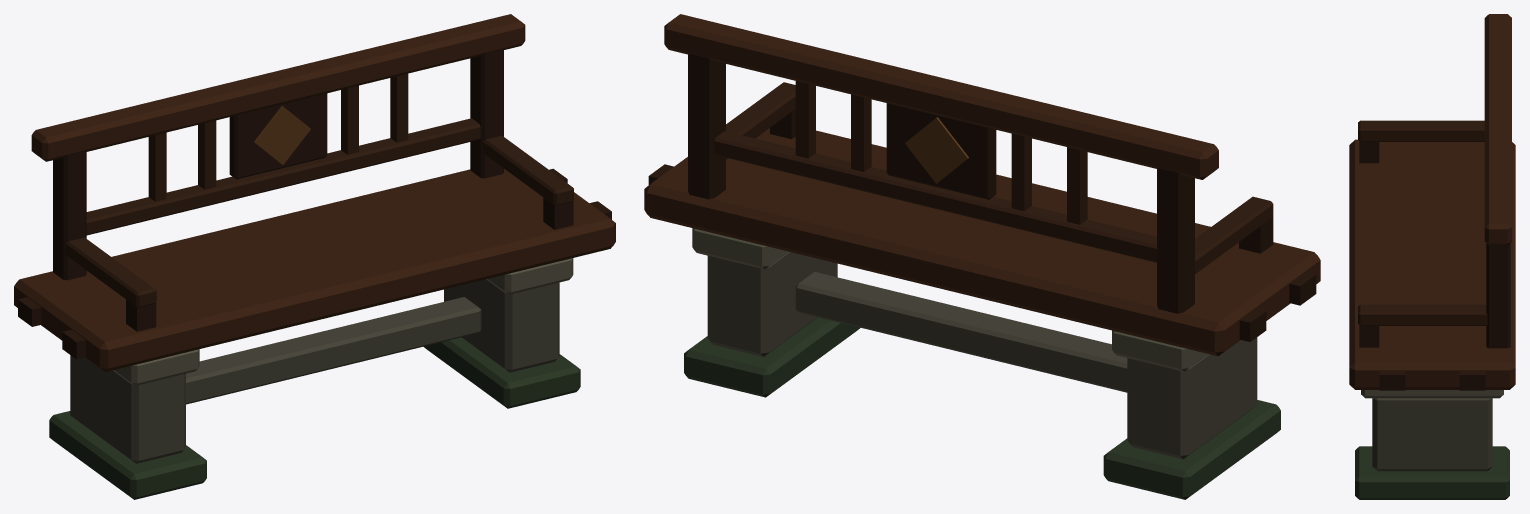
Rendered from stone_bench_v2.glb.
3 views of the same model, side by side, from view 1: azimuth 30°, elevation 25°; view 2: azimuth 150°, elevation 25°; view 3: azimuth 270°, elevation 25° (orthographic). The views are drawn at different scales.
Visible parts, largest first — view 1: StoneBenchV2; view 2: StoneBenchV2; view 3: StoneBenchV2.
Part boxes in pixels (x1,y1,x2,y2): StoneBenchV2: [14, 14, 615, 499]; StoneBenchV2: [644, 14, 1320, 499]; StoneBenchV2: [1349, 14, 1515, 499].
Size of the model in its own units: 1.95 by 1.09 by 0.58.
